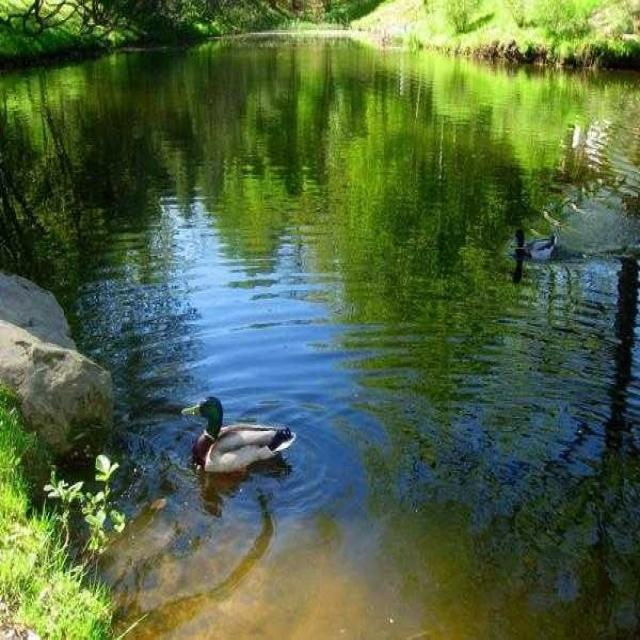Ponds: (4, 29, 638, 640)
